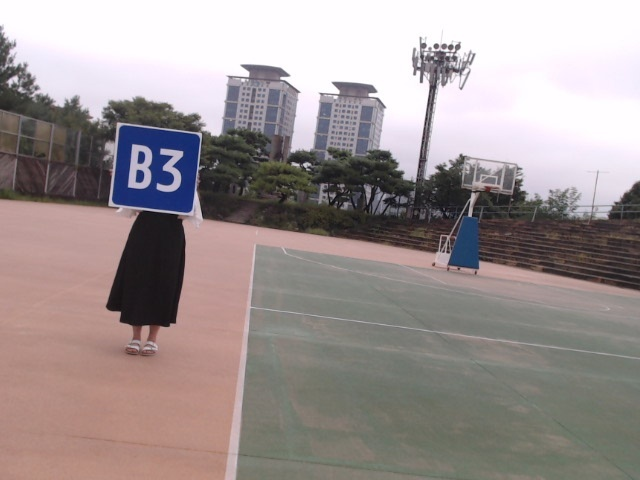delivery_b3: (111, 123, 203, 214)
